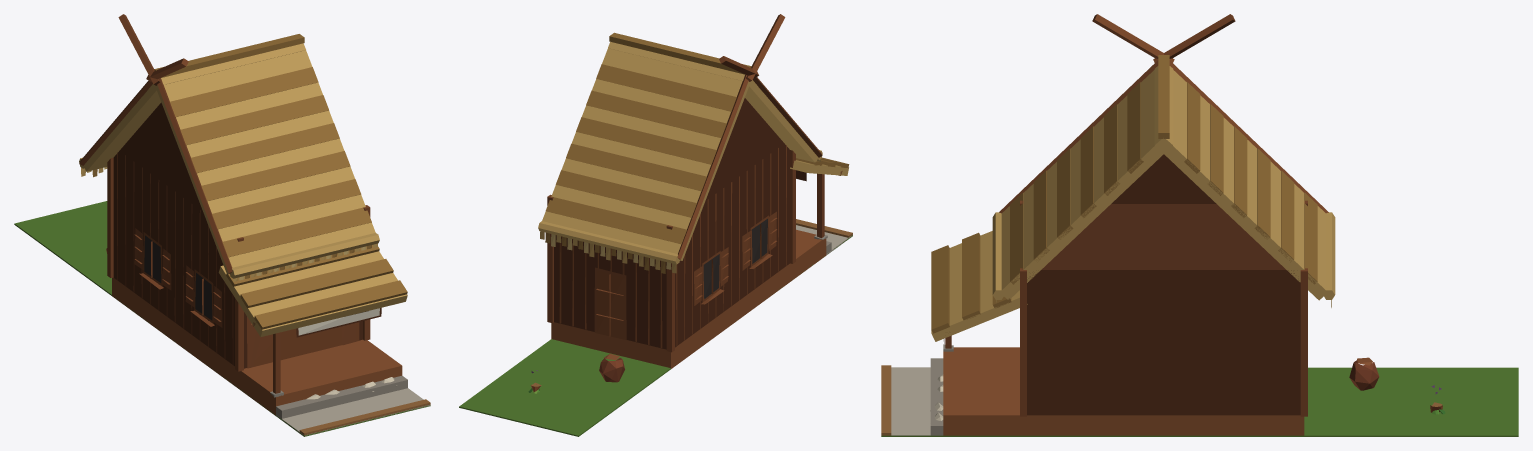
The model's file is bay2_left.glb.
The picture shows the model from 3 angles, left to right: view 1: azimuth 30°, elevation 25°; view 2: azimuth 150°, elevation 25°; view 3: azimuth 270°, elevation 25°; orthographic projection. The views are drawn at different scales.
Parts seen in each view (by area): view 1: body, windows; view 2: body, windows; view 3: body.
Part boxes in pixels (x1=…): body: x1=14, y1=14, x2=430, y2=436; windows: x1=144, y1=235, x2=212, y2=320; body: x1=459, y1=14, x2=852, y2=436; windows: x1=703, y1=218, x2=767, y2=298; body: x1=881, y1=14, x2=1518, y2=436.
Bounding box in the file's own units: 4.91 × 9.6 × 15.9.
